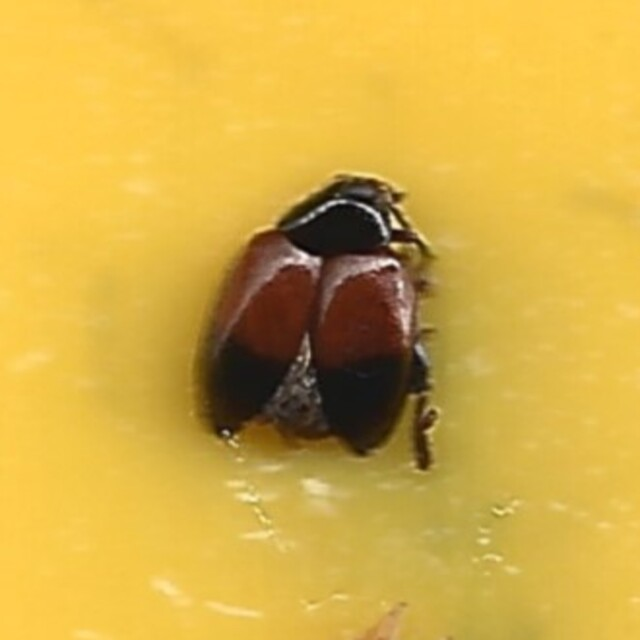Coleoptera: (194, 172, 446, 468)
